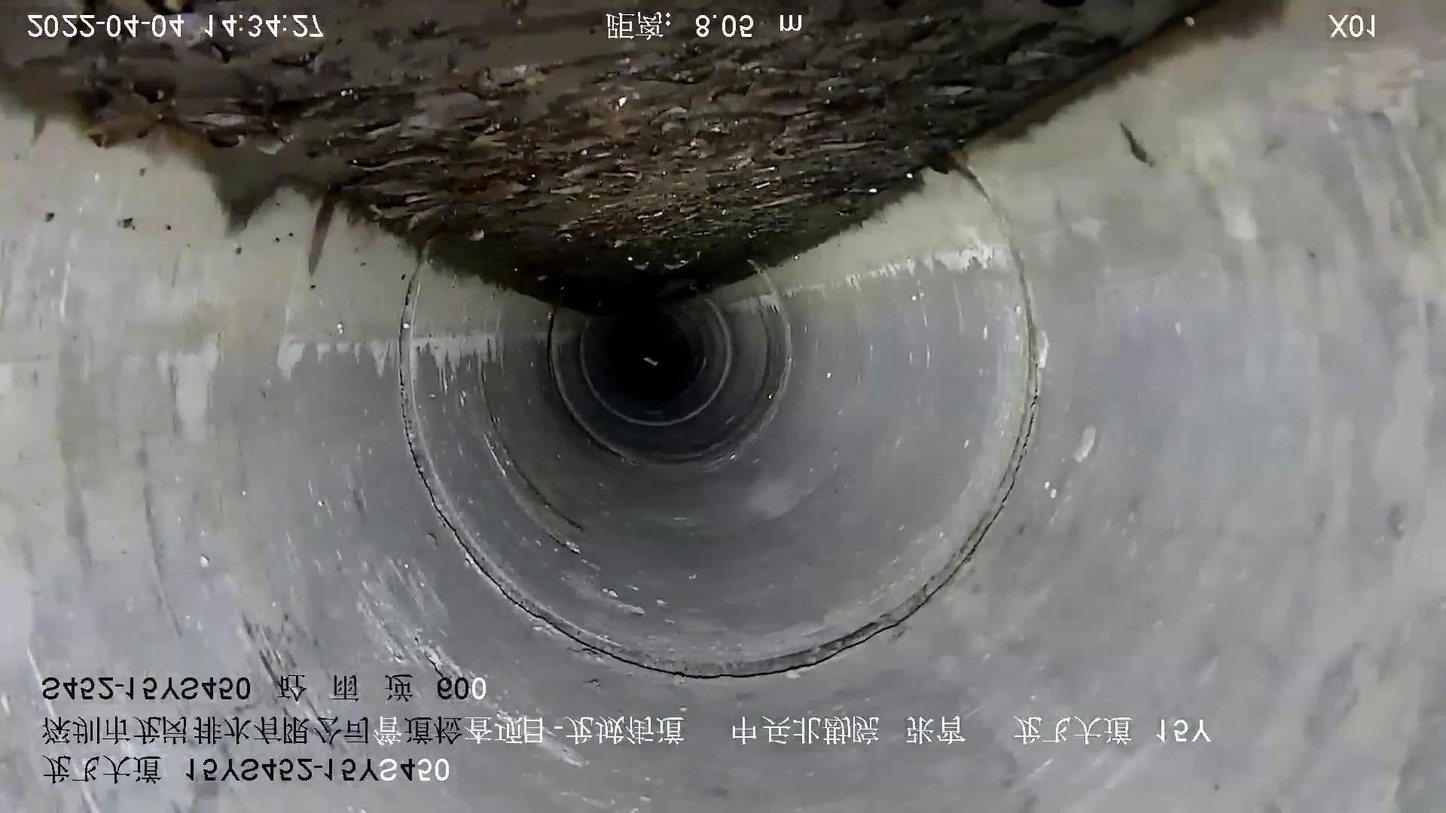CJ: (0, 1, 1209, 312)
CKTJ: (395, 241, 1048, 680)
